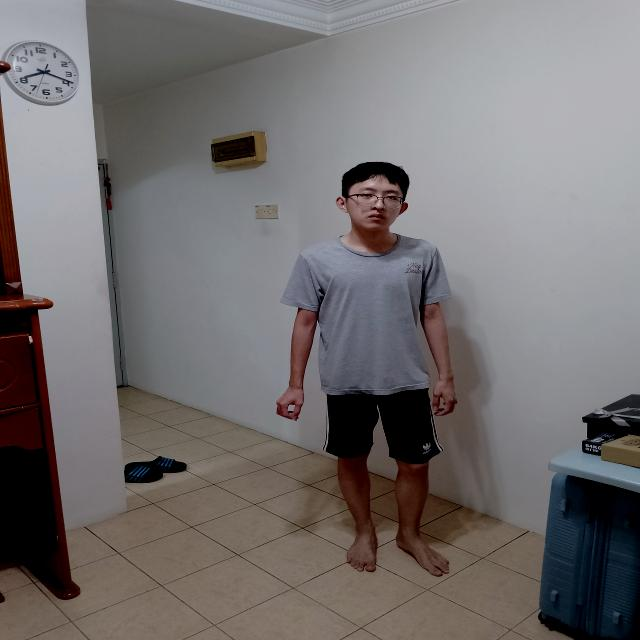person_without_labcoat: (276, 162, 457, 576)
